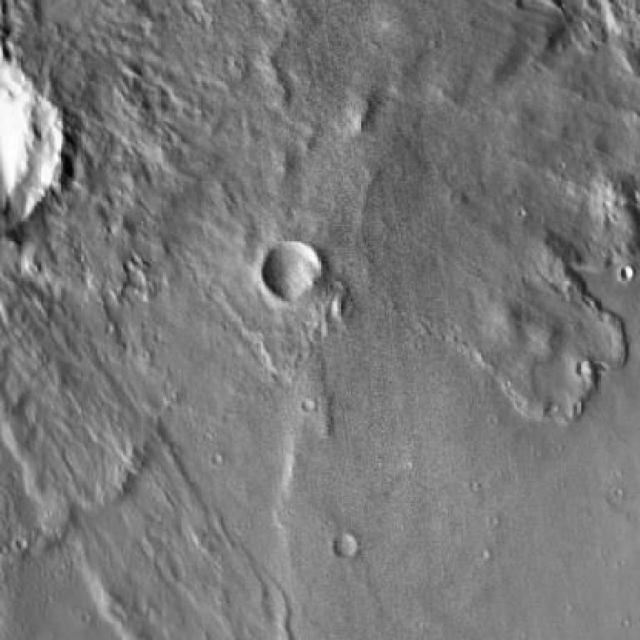crater: (0, 57, 57, 234), (260, 238, 323, 302), (333, 533, 358, 558)
